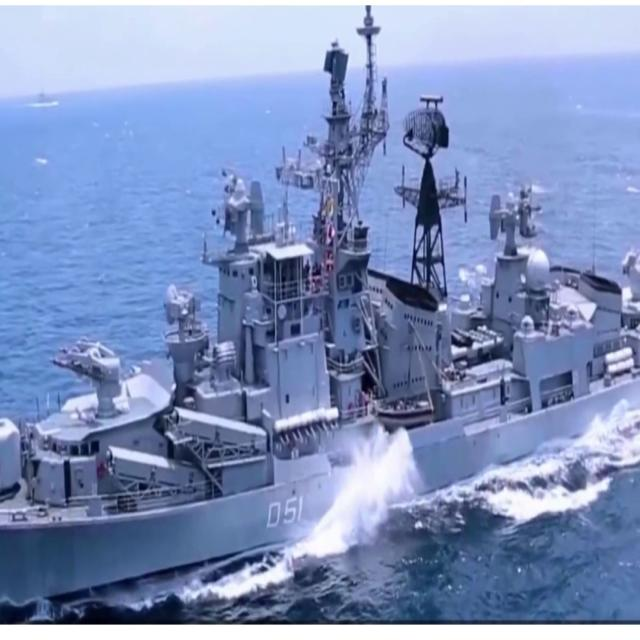OCR: (259, 488, 310, 540)
